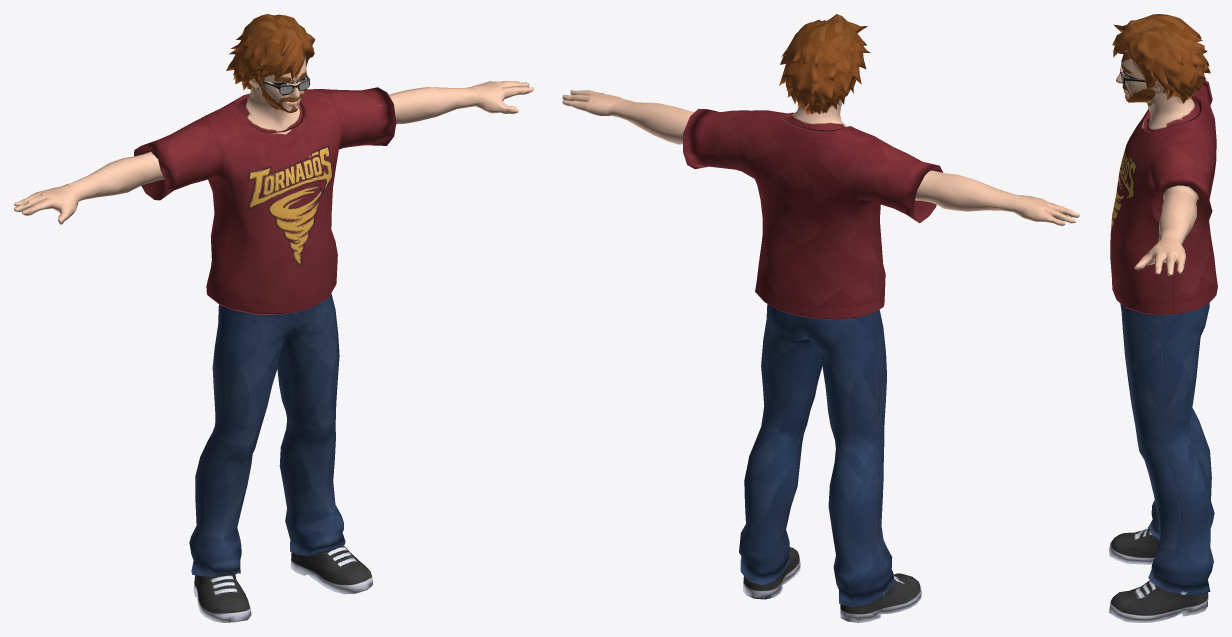
Rendered from zach.glb.
The picture shows the model from 3 angles, left to right: view 1: azimuth 30°, elevation 25°; view 2: azimuth 150°, elevation 25°; view 3: azimuth 270°, elevation 25°; orthographic projection.
Bounding box in the file's own units: 0.9434 × 1 × 0.1748.
1 material, 1 textured.
